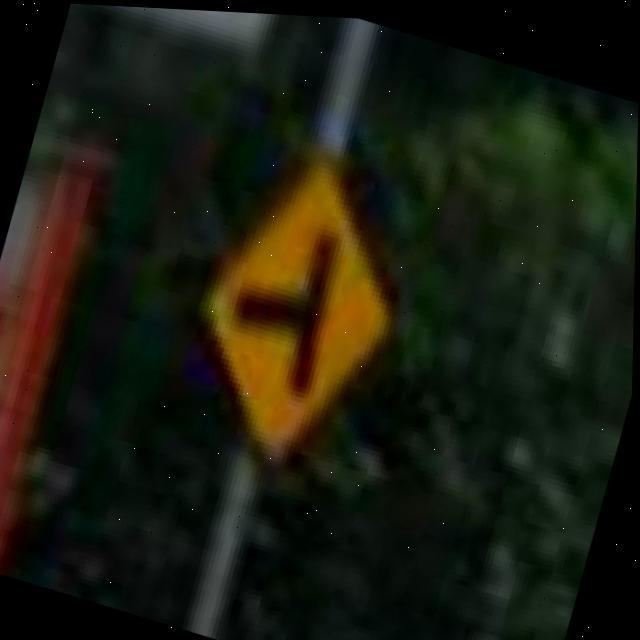Persimpangan 3 Sisi Kiri: (186, 141, 430, 459)
